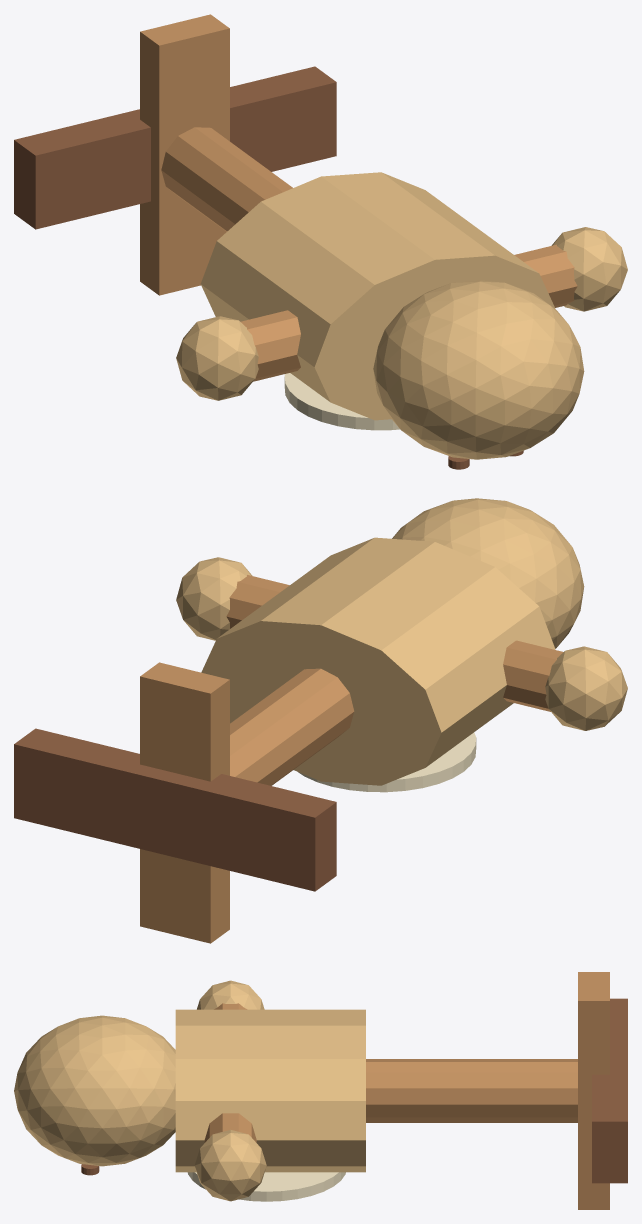
Rendered from BoomTheRang_TargetDummy-BZOlcIoJ.glb.
3 views of the same model, one above another, from view 1: azimuth 30°, elevation 25°; view 2: azimuth 150°, elevation 25°; view 3: azimuth 270°, elevation 25° (orthographic). The views are drawn at different scales.
Parts seen in each view (by area): view 1: Torso, Head, BaseFront, BaseCross, Post, ArmCap_L, Arms, ArmCap_R, TargetOuter; view 2: Torso, BaseFront, BaseCross, Head, Post, ArmCap_L, Arms, ArmCap_R, TargetOuter; view 3: Torso, Head, Post, BaseCross, BaseFront, ArmCap_R, TargetOuter, ArmCap_L, Arms.
Part boxes in pixels (x1,y1,x2,y2): Torso: (200, 172, 555, 420); Head: (373, 280, 584, 459); BaseFront: (14, 66, 336, 229); BaseCross: (140, 14, 229, 295); Post: (161, 127, 292, 231); ArmCap_L: (176, 316, 258, 400); Arms: (240, 244, 577, 381); ArmCap_R: (551, 227, 627, 311); TargetOuter: (284, 373, 399, 430); Torso: (201, 537, 555, 785); BaseFront: (14, 728, 336, 891); BaseCross: (140, 662, 229, 943); Head: (392, 498, 584, 648); Post: (230, 668, 354, 785); ArmCap_L: (545, 646, 627, 730); Arms: (226, 575, 563, 711); ArmCap_R: (176, 557, 252, 640); TargetOuter: (298, 732, 476, 792); Torso: (175, 1009, 365, 1172); Head: (14, 1015, 175, 1166); Post: (366, 1059, 577, 1122); BaseCross: (578, 972, 609, 1209); BaseFront: (592, 998, 627, 1183); ArmCap_R: (194, 1129, 266, 1201); TargetOuter: (187, 1172, 345, 1201); ArmCap_L: (197, 980, 264, 1009); Arms: (204, 1003, 256, 1142).
Bounding box in the file's own units: 2.12 × 1.15 × 3.06.
